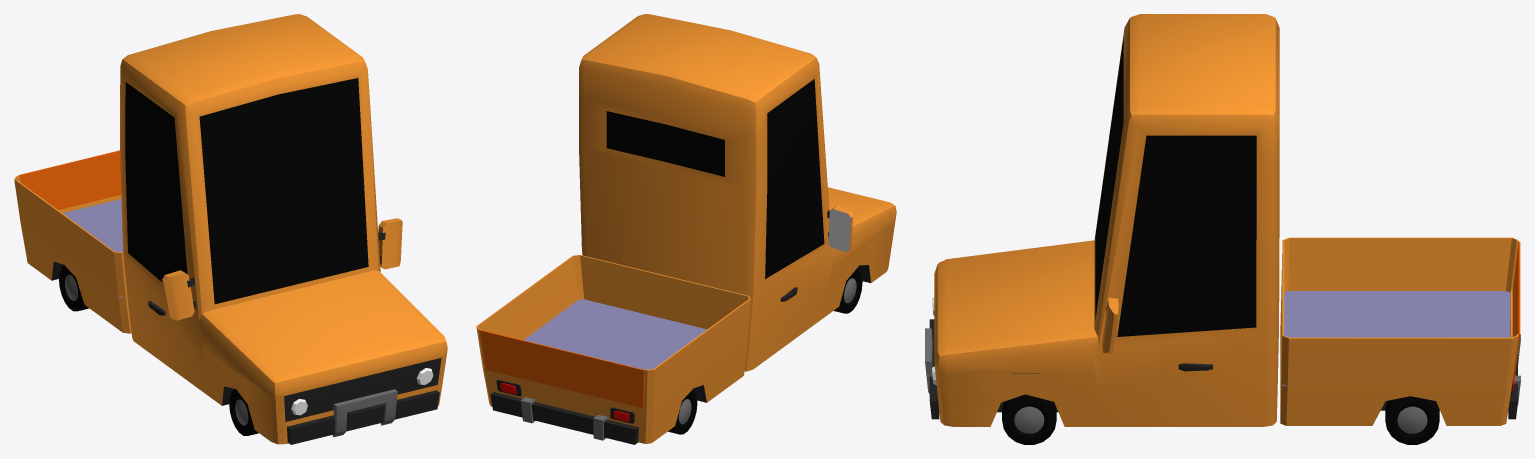
3 views of the same model, side by side, from view 1: azimuth 30°, elevation 25°; view 2: azimuth 150°, elevation 25°; view 3: azimuth 270°, elevation 25° (orthographic). The views are drawn at different scales.
Parts seen in each view (by area): view 1: Cube, Cube.001, Cube.008, Cube.003, Cube.002, Cube.005, Cylinder.002, Cylinder.003; view 2: Cube, Cube.001, Cube.005, Cube.003, Cube.008, Cube.002, Cylinder.002, Cylinder.003; view 3: Cube, Cube.001, Cube.005, Cylinder.000, Cylinder.001, Cube.008, Cube.003, Cube.002.
Part boxes in pixels (x1,y1,x2,y2): Cube: (120,14,447,444); Cube.001: (14,176,131,333); Cube.008: (284,358,441,444); Cube.003: (18,150,121,210); Cube.002: (162,218,402,320); Cube.005: (63,199,124,297); Cylinder.002: (229,389,258,435); Cylinder.003: (59,265,89,311); Cube: (579,14,896,371); Cube.001: (476,255,750,443); Cube.005: (524,299,747,369); Cube.003: (480,330,644,407); Cube.008: (490,379,638,444); Cube.002: (827,205,852,251); Cylinder.002: (833,268,862,313); Cylinder.003: (668,390,697,434); Cube: (934,14,1279,426); Cube.001: (1280,237,1518,425); Cube.005: (1282,291,1510,386); Cylinder.000: (1002,394,1056,444); Cylinder.001: (1385,396,1439,444); Cube.008: (925,297,1520,419); Cube.003: (1512,241,1520,379); Cube.002: (1102,298,1118,353).
Size of the model in its own units: 166 by 205 by 319.
Materials: 1 (1 with a texture image).
